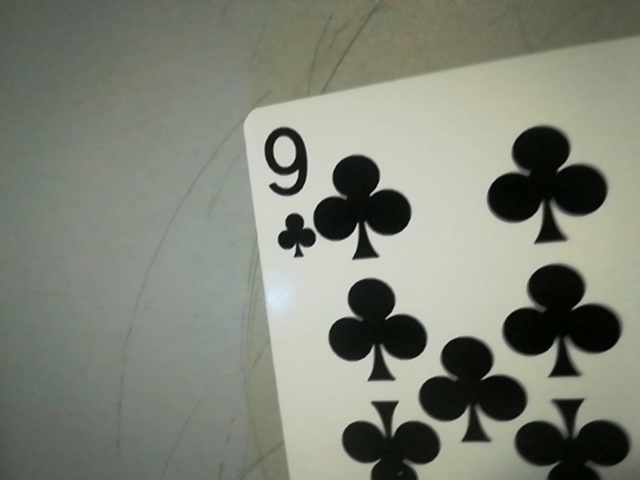mh 9: (253, 115, 320, 260)
